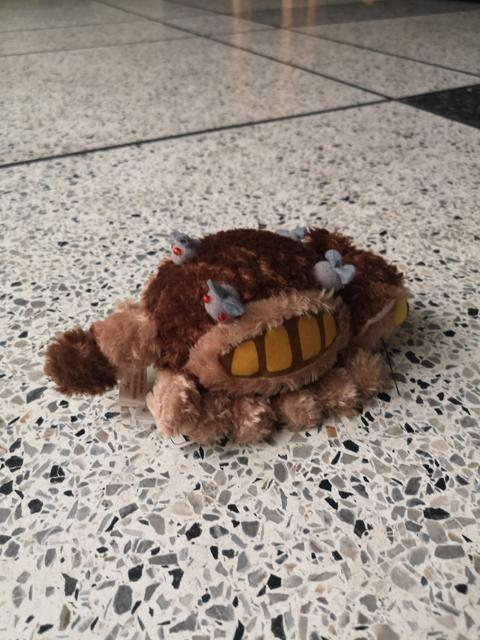nekobus: (41, 215, 418, 453)
